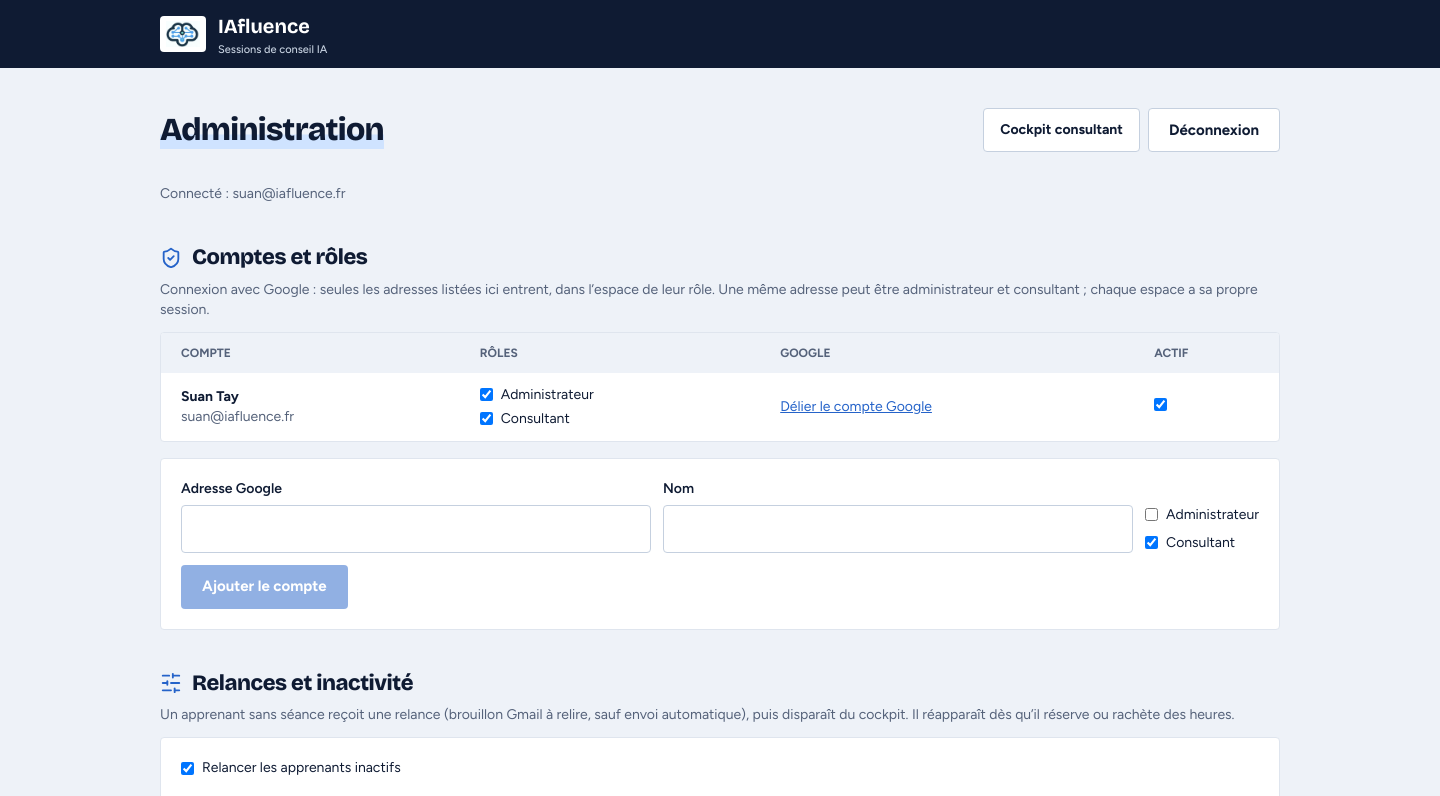
Test: Admin sign-in › logs out back to the sign-in page, even if the request fails
Click the button "Déconnexion".
click(1214, 130)  # box [1148,108,1280,152]
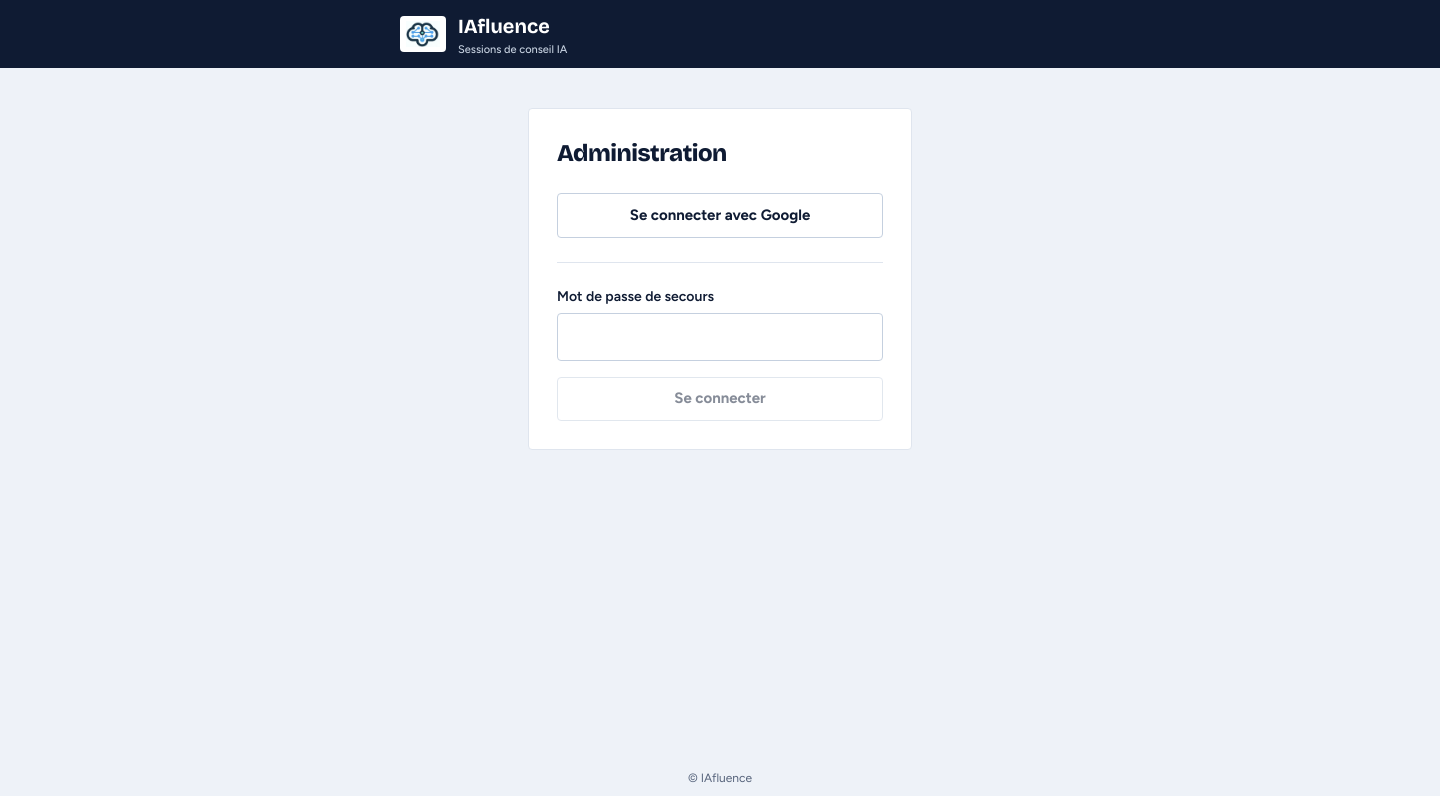
Now the link "Se connecter avec Google" is shown, box [557,193,883,238]
